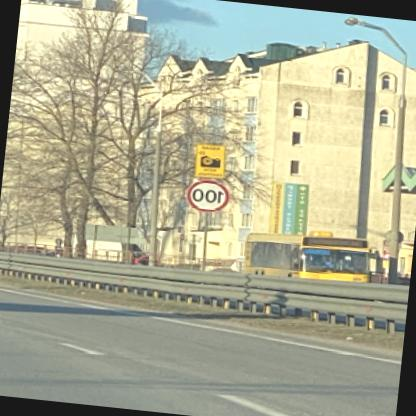speedlimit: (184, 176, 233, 212)
